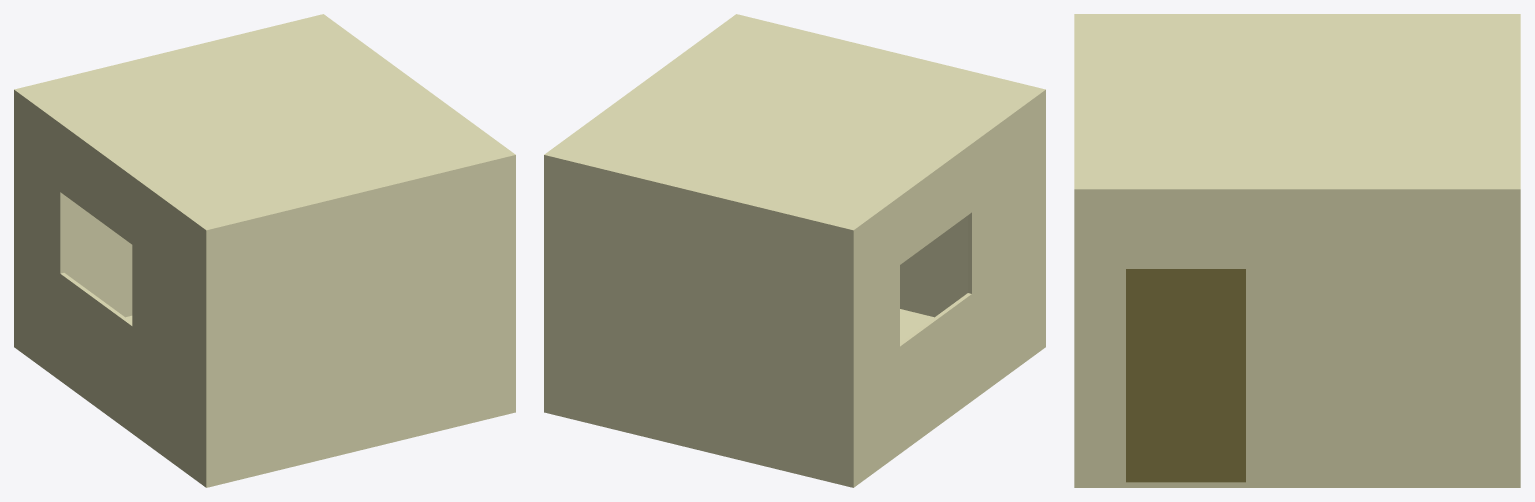
The model's file is Room.fbx.
3 renders of one model, left to right at view 1: azimuth 30°, elevation 25°; view 2: azimuth 150°, elevation 25°; view 3: azimuth 270°, elevation 25°, orthographic. The views are drawn at different scales.
Visible parts, largest first — view 1: 立方体; view 2: 立方体; view 3: 立方体.
Boxes of the visible parts, bbox=[...] form: 立方体: bbox=[14, 14, 515, 487]; 立方体: bbox=[544, 14, 1045, 487]; 立方体: bbox=[1074, 14, 1520, 487].
Bounding box in the file's own units: 952 × 757 × 1024.
